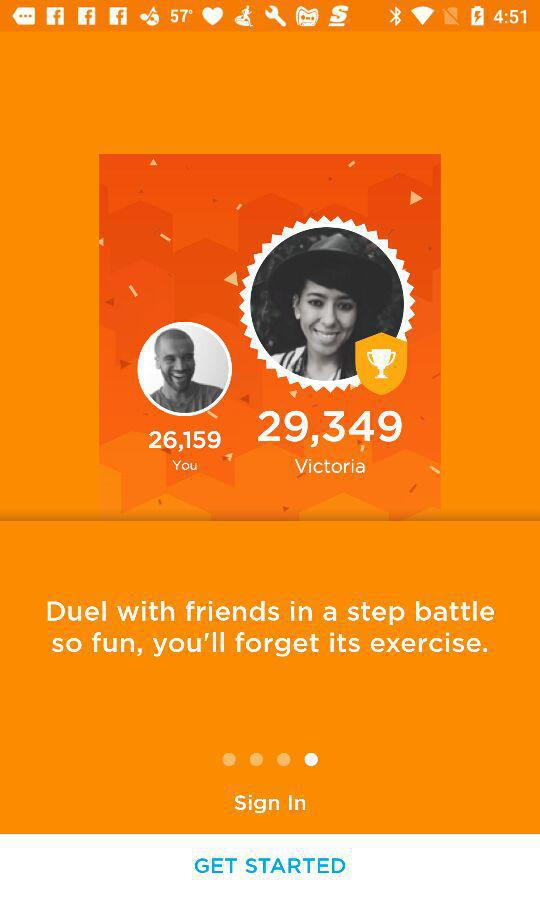Image: (100, 154, 442, 521)
PageIndicator: (222, 751, 320, 768)
Text: (48, 601, 495, 658), (234, 794, 307, 814)
TextButton: (1, 834, 540, 897)
UpperTaskBar: (1, 1, 540, 33)
